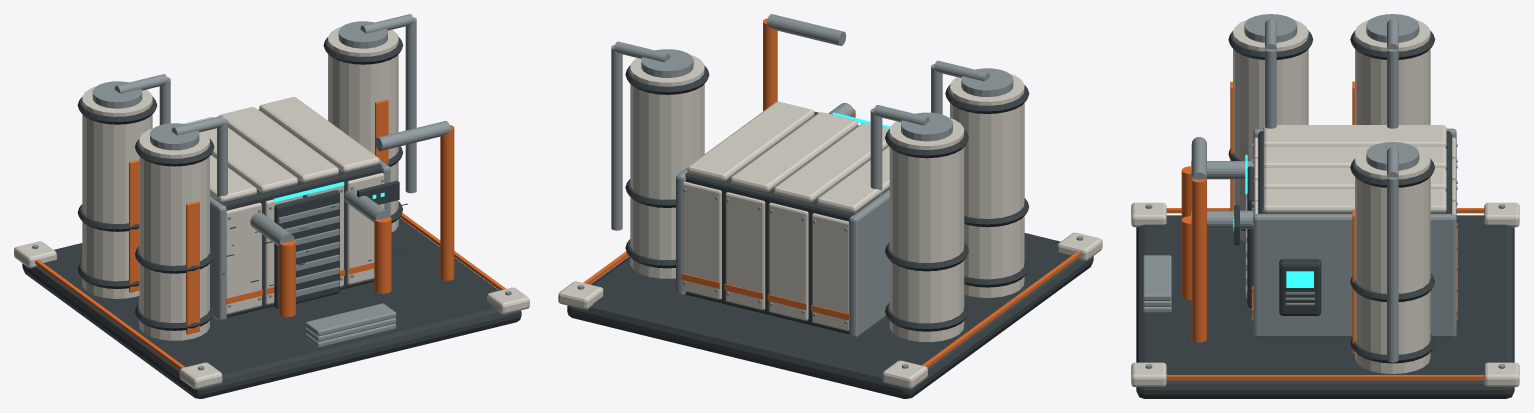
File: SM_RefuelingStation_Body.002.fbx
3 renders of one model, left to right at view 1: azimuth 30°, elevation 25°; view 2: azimuth 150°, elevation 25°; view 3: azimuth 270°, elevation 25°, orthographic. The views are drawn at different scales.
Parts seen in each view (by area): view 1: SM_RefuelingStation_Body.002; view 2: SM_RefuelingStation_Body.002; view 3: SM_RefuelingStation_Body.002.
Boxes of the visible parts, x1,y1,x2,y2 form: SM_RefuelingStation_Body.002: (14, 14, 529, 398); SM_RefuelingStation_Body.002: (558, 14, 1102, 398); SM_RefuelingStation_Body.002: (1131, 14, 1519, 398).
Size of the model in its own units: 503 by 462 by 307.
